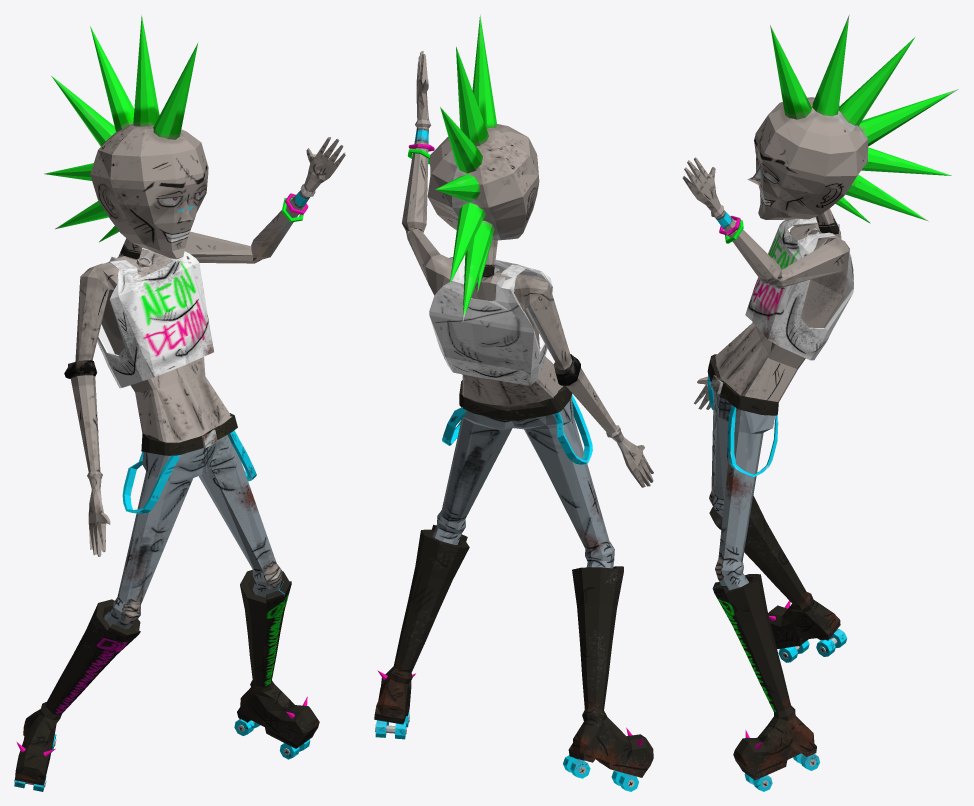
The model's file is punkAnimation_000119.obj.
3 renders of one model, left to right at view 1: azimuth 30°, elevation 25°; view 2: azimuth 150°, elevation 25°; view 3: azimuth 270°, elevation 25°, orthographic. The views are drawn at different scales.
Visible parts, largest first — view 1: Cube.004_Cube.003; view 2: Cube.004_Cube.003; view 3: Cube.004_Cube.003.
Part boxes in pixels (x1,y1,x2,y2): Cube.004_Cube.003: [14, 15, 345, 791]; Cube.004_Cube.003: [374, 14, 653, 791]; Cube.004_Cube.003: [682, 15, 958, 791].
Bounding box in the file's own units: 3 × 7.33 × 2.55.
